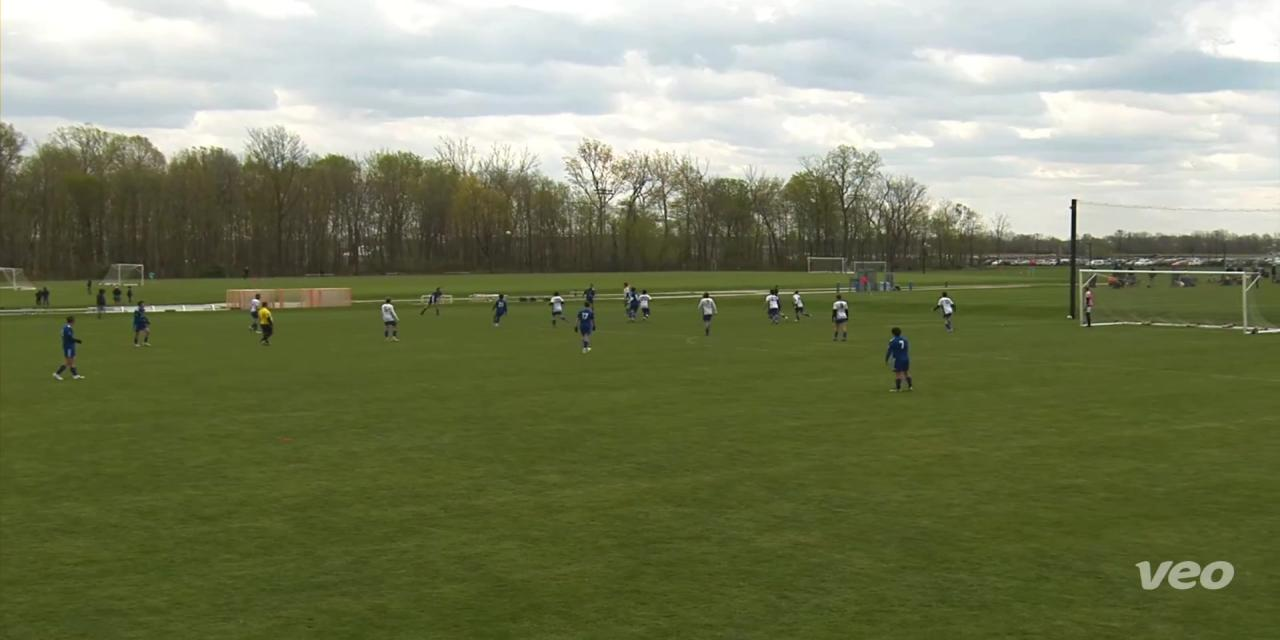sports ball: (503, 225, 517, 242)
